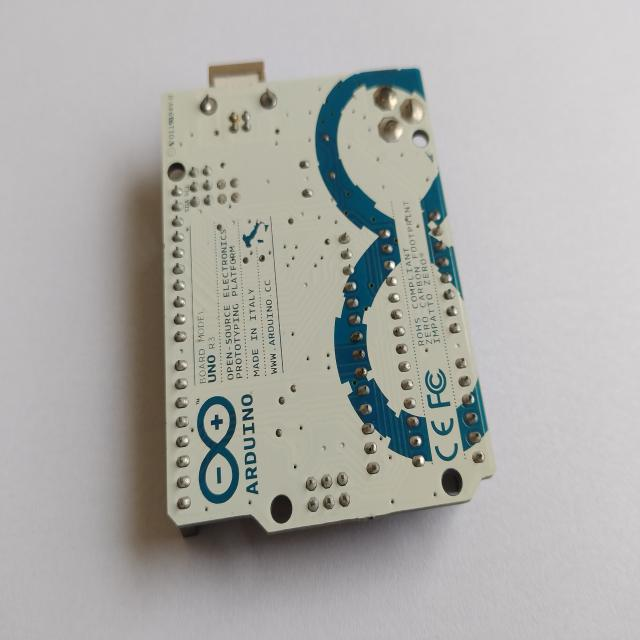arduino: (150, 52, 514, 548)
